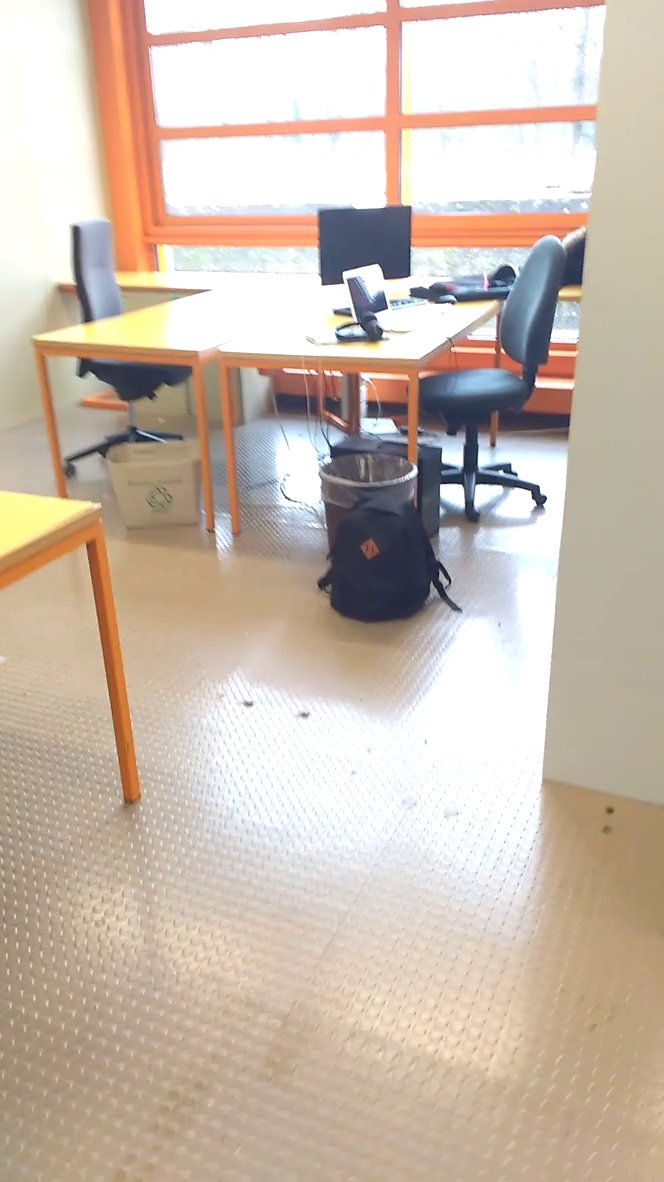bag: (315, 486, 473, 626)
bin: (293, 445, 432, 503)
box: (97, 437, 214, 533)
chair: (407, 226, 571, 490), (60, 205, 202, 437)
laptop: (335, 258, 444, 335)
